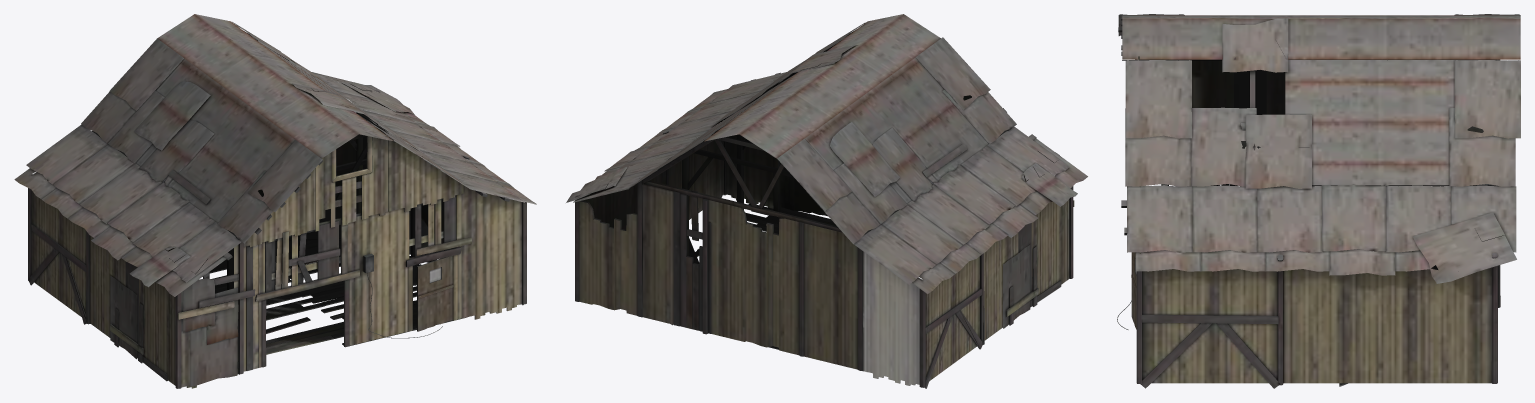
The model's file is old-barn.zfix-v14.lod0.glb.
3 views of the same model, side by side, from view 1: azimuth 30°, elevation 25°; view 2: azimuth 150°, elevation 25°; view 3: azimuth 270°, elevation 25° (orthographic). The views are drawn at different scales.
Parts seen in each view (by area): view 1: Object002_Object002_mtl_0; view 2: Object002_Object002_mtl_0; view 3: Object002_Object002_mtl_0.
Boxes of the visible parts, bbox=[...] form: Object002_Object002_mtl_0: bbox=[14, 14, 536, 388]; Object002_Object002_mtl_0: bbox=[566, 14, 1087, 388]; Object002_Object002_mtl_0: bbox=[1117, 14, 1520, 388].
Size of the model in its own units: 16 by 8.86 by 12.06.
1 material, 1 textured.
